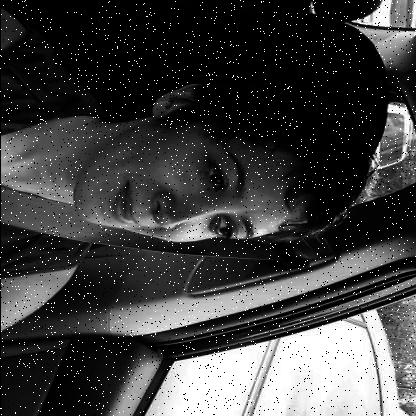seatbelt: (0, 72, 375, 274)
